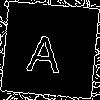A: (25, 25, 65, 74)
